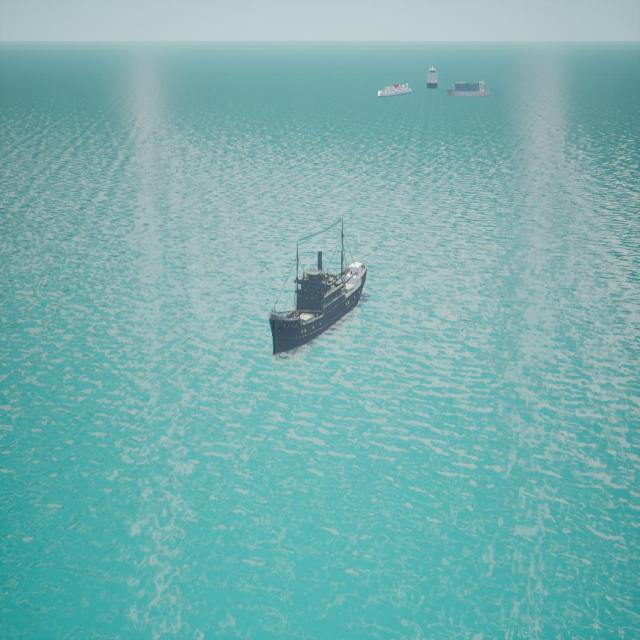fishing ship: (271, 263, 368, 361), (449, 82, 494, 100), (379, 84, 415, 100), (428, 66, 440, 89)
